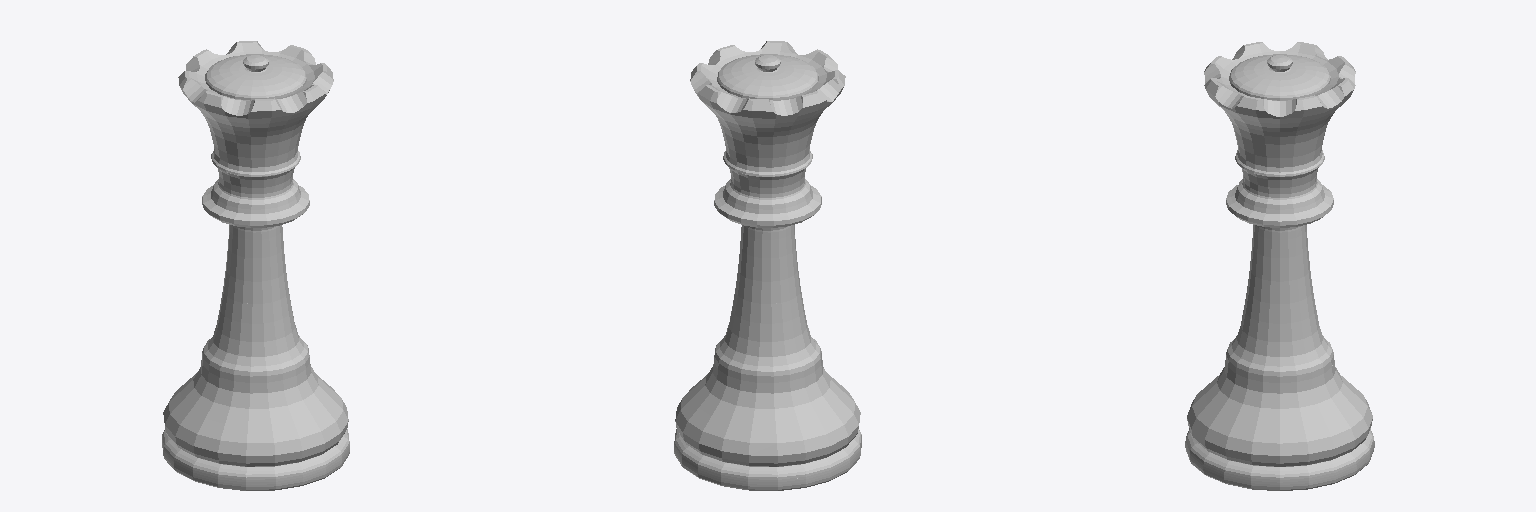
Rendered from chess_queen.obj.
3 renders of one model, left to right at view 1: azimuth 30°, elevation 25°; view 2: azimuth 150°, elevation 25°; view 3: azimuth 270°, elevation 25°, orthographic.
Visible parts, largest first — view 1: chess.003; view 2: chess.003; view 3: chess.003.
Boxes of the visible parts, box(x1,y1,x2,y2) form: chess.003: box(162, 41, 349, 490); chess.003: box(674, 41, 861, 490); chess.003: box(1185, 42, 1374, 490).
Size of the model in its own units: 186 by 429 by 186.